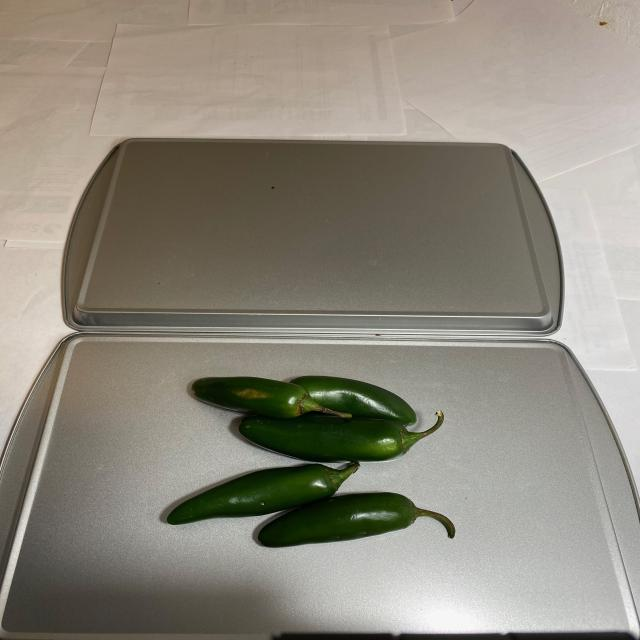chilli: (153, 368, 463, 567)
